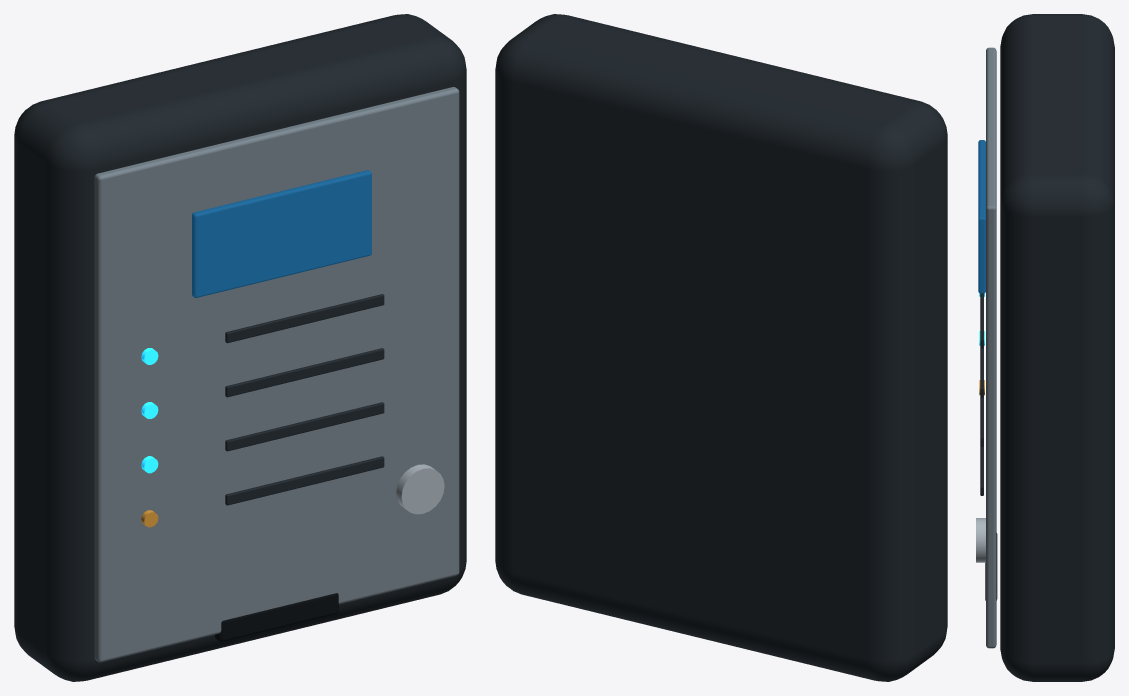
File: access-control-panel.glb
The picture shows the model from 3 angles, left to right: view 1: azimuth 30°, elevation 25°; view 2: azimuth 150°, elevation 25°; view 3: azimuth 270°, elevation 25°; orthographic projection. The views are drawn at different scales.
Visible parts, largest first — view 1: Locking front door, Access controller enclosure, Controller status display, System status label (×4), Cable entry, Cabinet lock, Premium network access control panel; view 2: Access controller enclosure; view 3: Access controller enclosure, Locking front door, Controller status display, Cabinet lock.
Boxes of the visible parts, x1=… form: Locking front door: x1=94, y1=87, x2=459, y2=662; Access controller enclosure: x1=14, y1=14, x2=466, y2=681; Controller status display: x1=192, y1=170, x2=371, y2=297; System status label (×4): x1=225, y1=294, x2=384, y2=505; Cable entry: x1=215, y1=593, x2=338, y2=641; Cabinet lock: x1=396, y1=464, x2=444, y2=514; Premium network access control panel: x1=141, y1=348, x2=158, y2=527; Access controller enclosure: x1=495, y1=14, x2=947, y2=681; Access controller enclosure: x1=1000, y1=14, x2=1114, y2=681; Locking front door: x1=986, y1=47, x2=996, y2=648; Controller status display: x1=978, y1=140, x2=985, y2=293; Cabinet lock: x1=976, y1=518, x2=985, y2=562.
Bounding box in the file's own units: 1.45 × 1.85 × 0.46.
